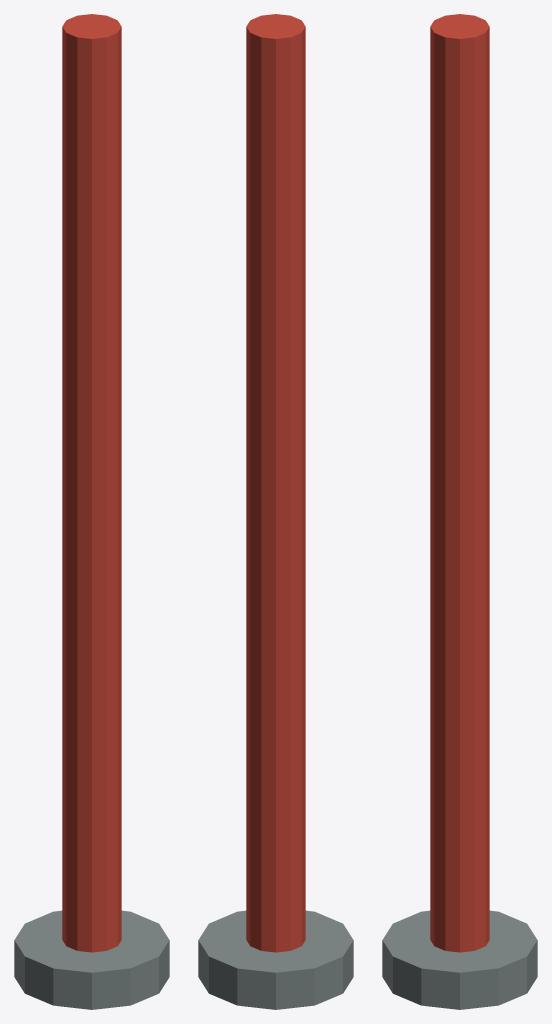
File: park_swing_post.glb
3 renders of one model, left to right at view 1: azimuth 30°, elevation 25°; view 2: azimuth 150°, elevation 25°; view 3: azimuth 270°, elevation 25°, orthographic.
Parts seen in each view (by area): view 1: park_swing_post; view 2: park_swing_post; view 3: park_swing_post.
Part boxes in pixels (x1,y1,x2,y2): park_swing_post: (14,14,169,1009); park_swing_post: (198,14,353,1009); park_swing_post: (382,14,537,1009).
Size of the model in its own units: 0.34 by 2.3 by 0.34.
